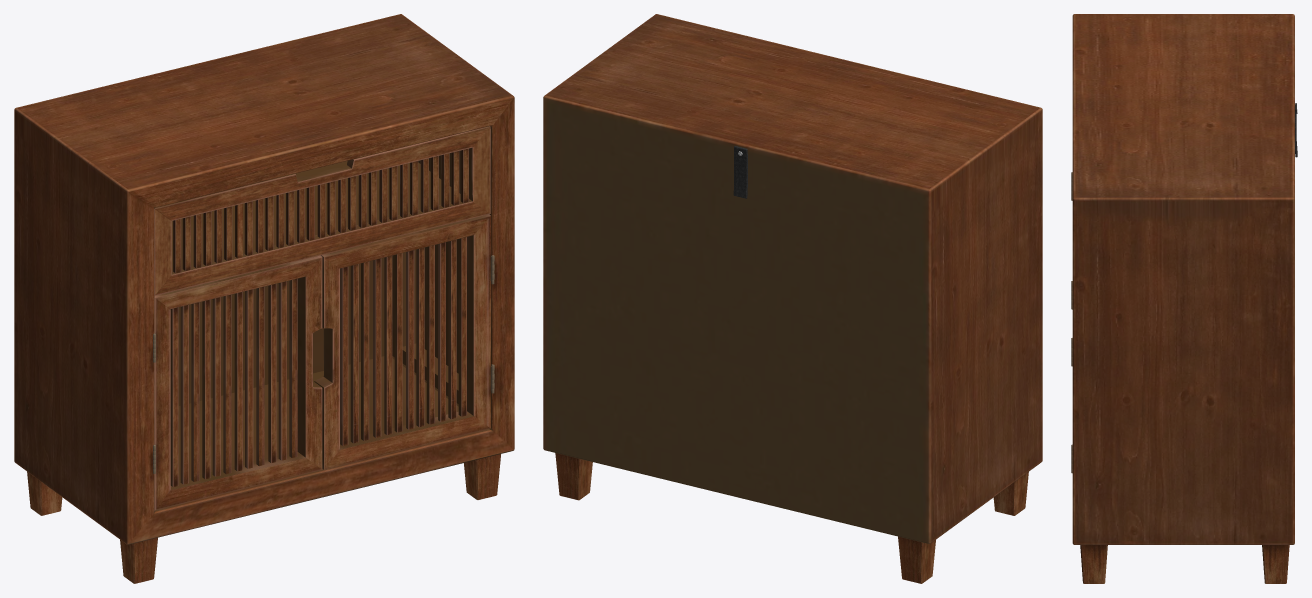
Rendered from fremont_slatted_two_door_cabinet.glb.
The picture shows the model from 3 angles, left to right: view 1: azimuth 30°, elevation 25°; view 2: azimuth 150°, elevation 25°; view 3: azimuth 270°, elevation 25°; orthographic projection. The views are drawn at different scales.
Visible parts, largest first — view 1: RootNode; view 2: RootNode; view 3: RootNode.
Boxes of the visible parts, x1,y1,x2,y2 form: RootNode: (14,14,514,583); RootNode: (543,14,1042,583); RootNode: (1071,14,1297,583).
Bounding box in the file's own units: 0.7959 × 0.7854 × 0.4116.
1 material, 1 textured.
